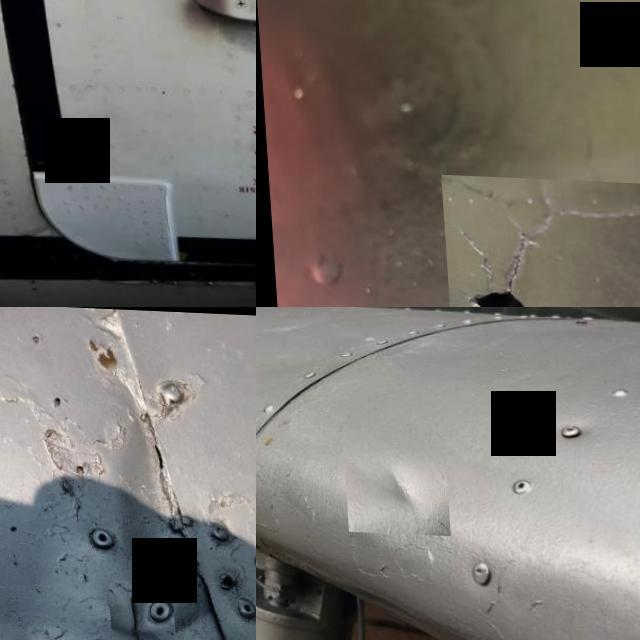Crack: (436, 172, 640, 307), (104, 578, 173, 640), (58, 123, 97, 174)
Dent: (337, 427, 445, 533)
